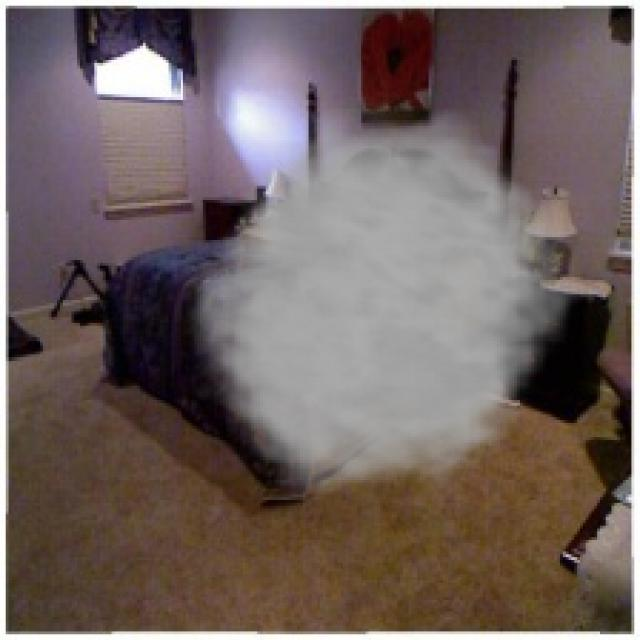smoke: (177, 109, 592, 512)
